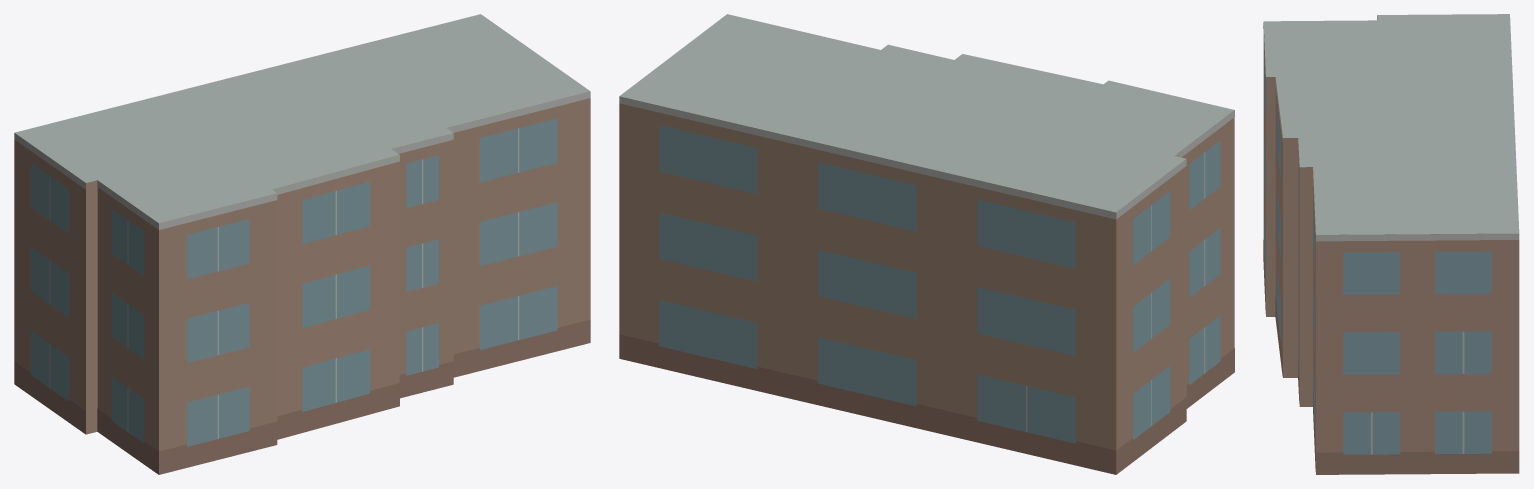
Rendered from survey-upis-32838405.glb.
The picture shows the model from 3 angles, left to right: view 1: azimuth 30°, elevation 25°; view 2: azimuth 150°, elevation 25°; view 3: azimuth 270°, elevation 25°; orthographic projection. The views are drawn at different scales.
Parts seen in each view (by area): view 1: survey-upis-32838405.tmp; view 2: survey-upis-32838405.tmp; view 3: survey-upis-32838405.tmp.
Part boxes in pixels (bbox=[...]): survey-upis-32838405.tmp: bbox=[14, 14, 590, 474]; survey-upis-32838405.tmp: bbox=[619, 14, 1234, 474]; survey-upis-32838405.tmp: bbox=[1263, 14, 1519, 474].
Bounding box in the file's own units: 18.08 × 9.15 × 8.85.
